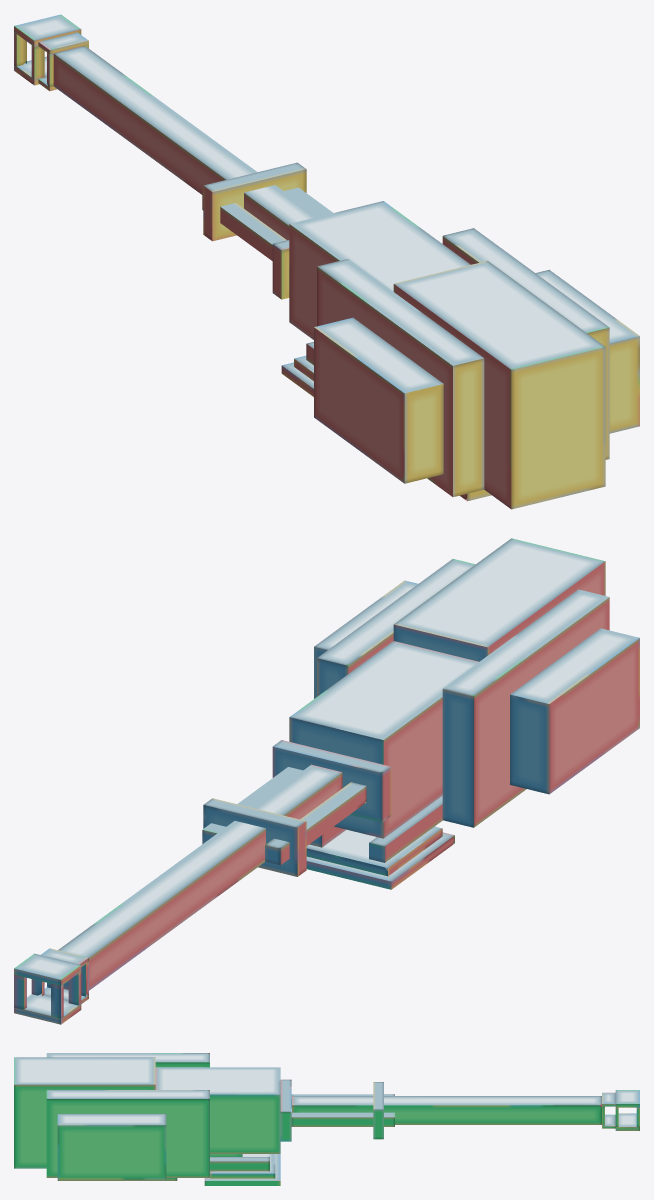
Rendered from example_block.obj.
3 views of the same model, one above another, from view 1: azimuth 30°, elevation 25°; view 2: azimuth 150°, elevation 25°; view 3: azimuth 270°, elevation 25° (orthographic). The views are drawn at different scales.
Visible parts, largest first — view 1: cube.002, cube.004, cube, cube.011, cube.025, cube.001, cube.005, cube.024, cube.023, cube.020, cube.026; view 2: cube.025, cube, cube.004, cube.011, cube.002, cube.001, cube.026, cube.024, cube.006, cube.023, cube.010, cube.007 (+4 smaller); view 3: cube.011, cube.001, cube.025, cube.002, cube.005, cube.022, cube, cube.009, cube.010, cube.026, cube.006, cube.024 (+3 smaller).
Part boxes in pixels (x1,y1,x2,y2): cube.002: [393, 260, 605, 509]; cube.004: [314, 317, 443, 483]; cube: [317, 259, 484, 496]; cube.011: [53, 46, 318, 239]; cube.025: [289, 201, 470, 339]; cube.001: [442, 228, 609, 459]; cube.005: [535, 269, 639, 433]; cube.024: [203, 162, 306, 241]; cube.023: [202, 193, 286, 260]; cube.020: [14, 14, 81, 46]; cube.026: [272, 240, 289, 299]; cube.025: [289, 641, 478, 838]; cube: [442, 589, 609, 827]; cube.004: [510, 628, 639, 794]; cube.011: [58, 764, 342, 990]; cube.002: [393, 538, 605, 661]; cube.001: [317, 559, 475, 696]; cube.026: [272, 740, 391, 822]; cube.024: [203, 798, 306, 876]; cube.006: [306, 826, 442, 876]; cube.023: [265, 782, 366, 865]; cube.010: [306, 832, 454, 889]; cube.007: [369, 796, 442, 862]; cube.011: [292, 1096, 601, 1124]; cube.001: [46, 1090, 209, 1177]; cube.025: [155, 1067, 280, 1153]; cube.002: [14, 1057, 155, 1168]; cube.005: [57, 1114, 166, 1179]; cube.022: [291, 1112, 394, 1126]; cube: [46, 1053, 209, 1067]; cube.009: [210, 1157, 269, 1171]; cube.010: [204, 1154, 280, 1185]; cube.026: [280, 1079, 291, 1141]; cube.006: [210, 1154, 275, 1178]; cube.024: [373, 1082, 383, 1139].
Bounding box in the file's own units: 1.88 × 1.25 × 7.19.
